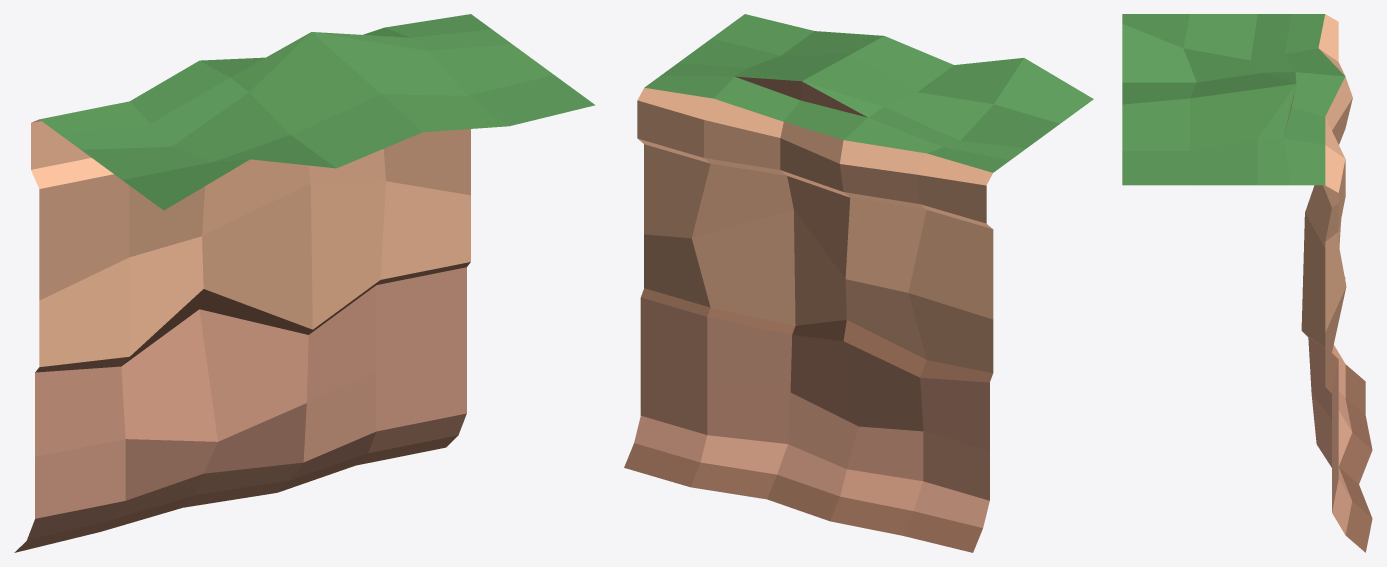
Rendered from CliffFace2.fbx.
3 renders of one model, left to right at view 1: azimuth 30°, elevation 25°; view 2: azimuth 150°, elevation 25°; view 3: azimuth 270°, elevation 25°, orthographic. The views are drawn at different scales.
Visible parts, largest first — view 1: Cliff2; view 2: Cliff2; view 3: Cliff2.
Boxes of the visible parts, <box> form: Cliff2: <box>14,14,595,552</box>; Cliff2: <box>624,14,1093,552</box>; Cliff2: <box>1122,14,1372,552</box>.
Size of the model in its own units: 19980 by 21675 by 12321.
